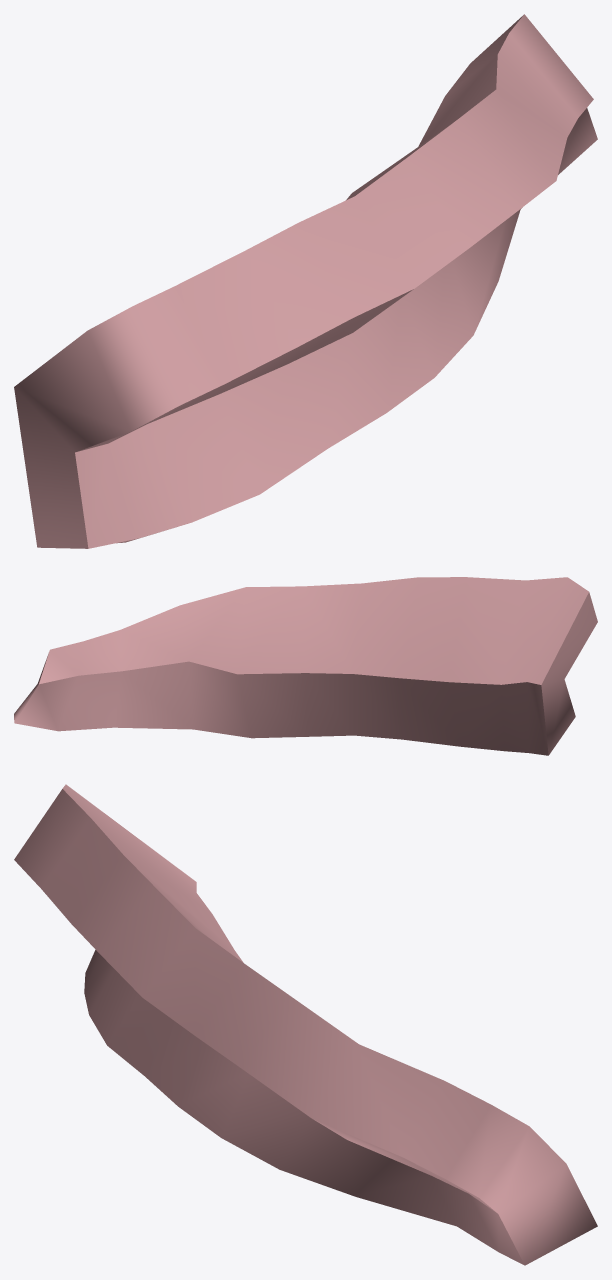
3 views of the same model, one above another, from view 1: azimuth 30°, elevation 25°; view 2: azimuth 150°, elevation 25°; view 3: azimuth 270°, elevation 25° (orthographic). The views are drawn at different scales.
Parts seen in each view (by area): view 1: ZA_a3692ae780df632f; view 2: ZA_a3692ae780df632f; view 3: ZA_a3692ae780df632f.
Boxes of the visible parts, box(x1,y1,x2,y2) form: ZA_a3692ae780df632f: box(14, 14, 597, 548); ZA_a3692ae780df632f: box(14, 577, 597, 755); ZA_a3692ae780df632f: box(14, 784, 597, 1265).
Size of the model in its own units: 0.0251 by 0.00899 by 0.02.
